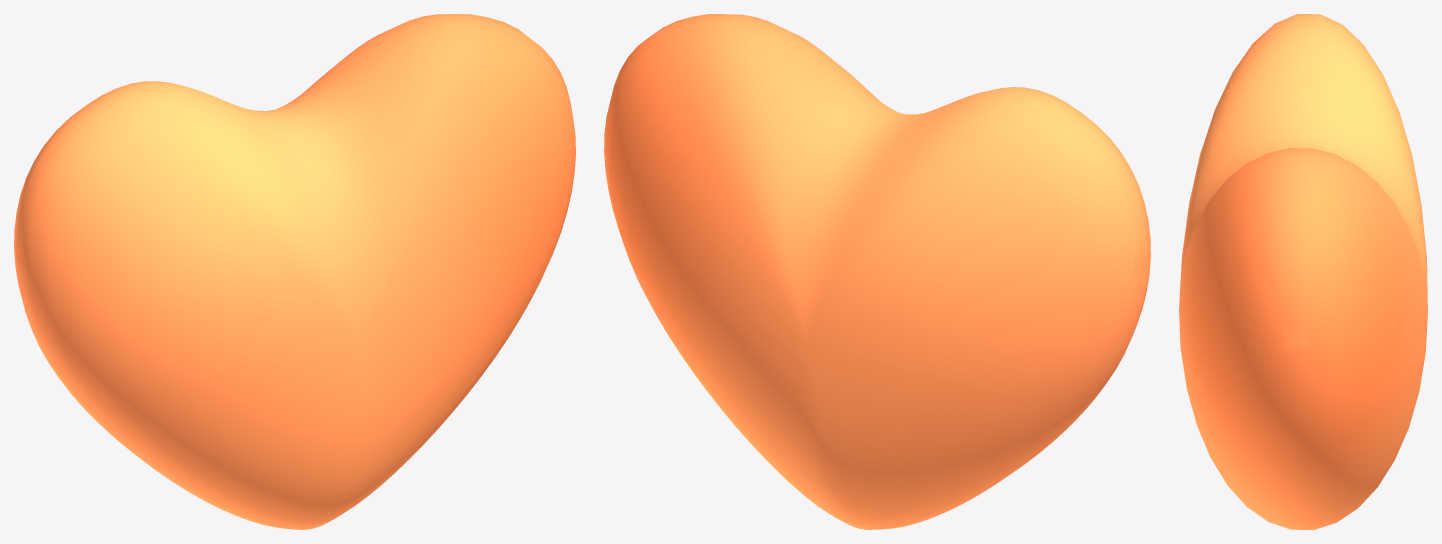
The model's file is heart-orange-matched-v9.glb.
3 views of the same model, side by side, from view 1: azimuth 30°, elevation 25°; view 2: azimuth 150°, elevation 25°; view 3: azimuth 270°, elevation 25° (orthographic). The views are drawn at different scales.
Visible parts, largest first — view 1: Heart_Glass; view 2: Heart_Glass; view 3: Heart_Glass.
Boxes of the visible parts, x1,y1,x2,y2 form: Heart_Glass: [14, 14, 575, 529]; Heart_Glass: [604, 14, 1150, 529]; Heart_Glass: [1179, 14, 1427, 529].
Bounding box in the file's own units: 0.0801 × 0.0665 × 0.0347.
Materials: 1 (1 with a texture image).
